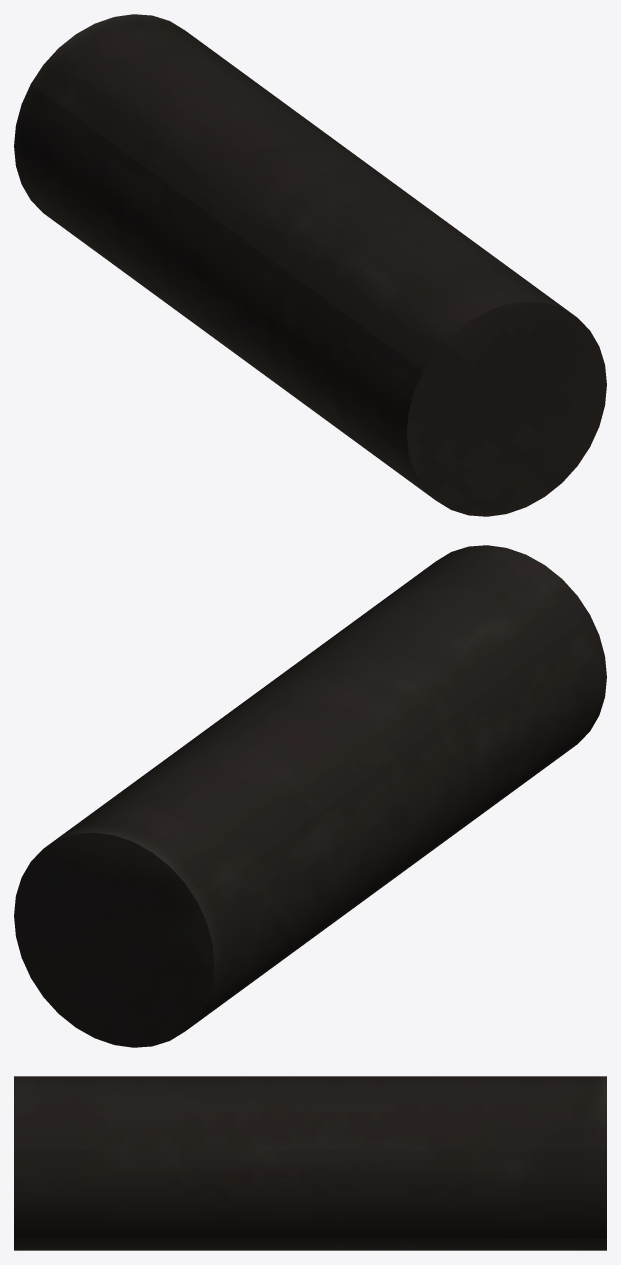
Rendered from door__door_knuckle_1.glb.
The picture shows the model from 3 angles, top to bottom: view 1: azimuth 30°, elevation 25°; view 2: azimuth 150°, elevation 25°; view 3: azimuth 270°, elevation 25°; orthographic projection. The views are drawn at different scales.
Visible parts, largest first — view 1: geometry_0; view 2: geometry_0; view 3: geometry_0.
Part boxes in pixels (box(x1,y1,x2,y2)): geometry_0: box(14, 14, 606, 516); geometry_0: box(14, 545, 606, 1047); geometry_0: box(14, 1076, 606, 1250).
Size of the model in its own units: 0.028 by 0.028 by 0.095.
1 material, 1 textured.
